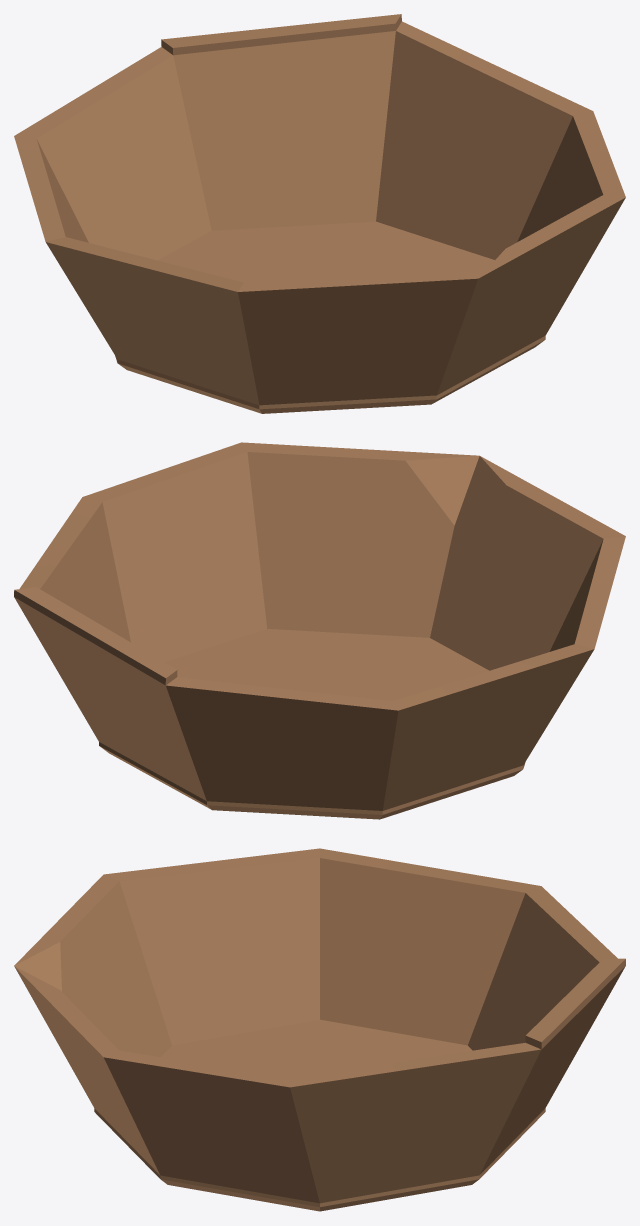
Rendered from plate3Shabby.fbx.
The picture shows the model from 3 angles, top to bottom: view 1: azimuth 30°, elevation 25°; view 2: azimuth 150°, elevation 25°; view 3: azimuth 270°, elevation 25°; orthographic projection. The views are drawn at different scales.
Visible parts, largest first — view 1: plate3Shabby; view 2: plate3Shabby; view 3: plate3Shabby.
Part boxes in pixels (left/top/right/bottom): plate3Shabby: left=14, top=14, right=625, bottom=413; plate3Shabby: left=14, top=442, right=625, bottom=819; plate3Shabby: left=14, top=848, right=625, bottom=1211.
Bounding box in the file's own units: 18.48 × 5.87 × 19.06.
